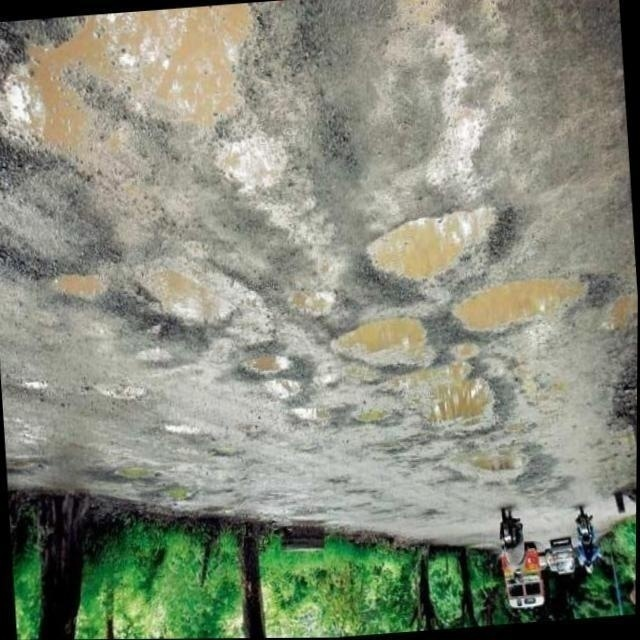pothole: (0, 6, 269, 173), (364, 214, 508, 286), (457, 276, 601, 346), (143, 268, 236, 338), (343, 318, 432, 381), (424, 375, 508, 440), (162, 418, 249, 468), (48, 257, 112, 318), (453, 441, 525, 489), (242, 347, 300, 388), (356, 398, 404, 438)
